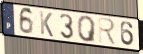3: (59, 13, 75, 40)
6: (17, 6, 35, 37), (119, 21, 135, 47)
K: (39, 10, 55, 39)
Q: (76, 15, 97, 44)
R: (97, 16, 118, 47)
